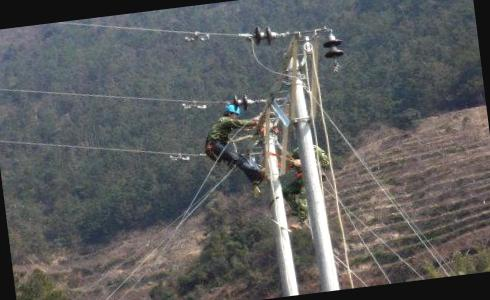person: (200, 97, 274, 186)
